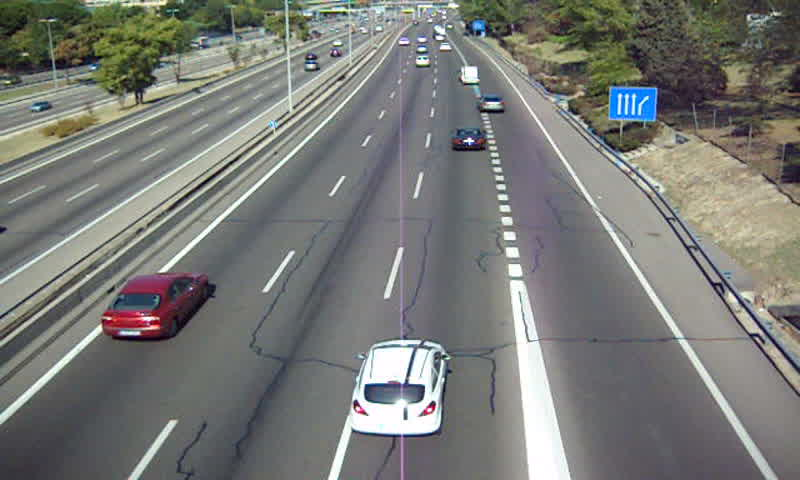car: (352, 341, 448, 435), (102, 273, 207, 339), (450, 126, 486, 150), (479, 94, 506, 114), (415, 54, 430, 66)
van: (460, 65, 478, 82)
